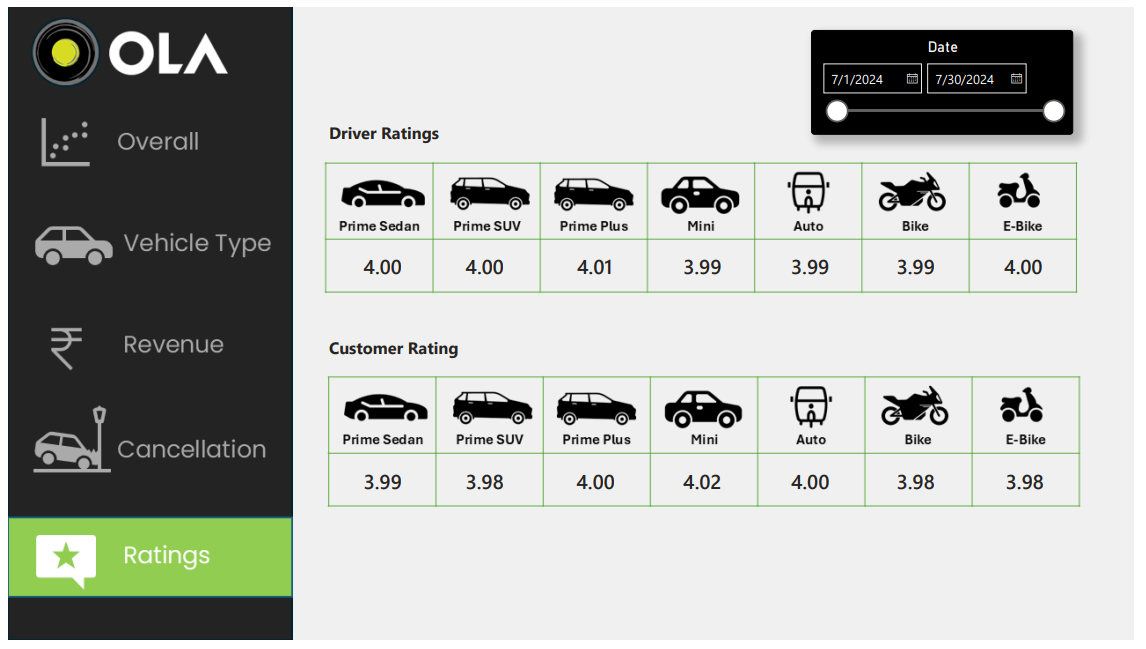

The page's visual inventory and layout, read from the dashboard file:
{"tool":"powerbi","page":{"name":"Rating","canvas":[1280,720],"ordinal":4},"visuals":[{"type":"actionButton","box":[0,220.8,324.5,92.9],"z":0},{"type":"actionButton","box":[0,341.4,324.5,92.9],"z":1000},{"type":"actionButton","box":[0,445.2,324.5,92.9],"z":2000},{"type":"actionButton","box":[0,107.4,324.5,92.9],"z":3000},{"type":"cardVisual","fields":{"Data":["Avg(July.Driver_Ratings)"]},"box":[373.8,271.2,103.8,42.5],"z":4000},{"type":"cardVisual","fields":{"Data":["Avg(July.Driver_Ratings)"]},"box":[490,271.2,103.8,42.5],"z":5000},{"type":"cardVisual","fields":{"Data":["Avg(July.Driver_Ratings)"]},"box":[615,271.2,103.8,42.5],"z":6000},{"type":"cardVisual","fields":{"Data":["Avg(July.Driver_Ratings)"]},"box":[737.5,271.2,103.8,42.5],"z":7000},{"type":"cardVisual","fields":{"Data":["Avg(July.Driver_Ratings)"]},"box":[860,271.2,103.8,42.5],"z":8000},{"type":"cardVisual","fields":{"Data":["Avg(July.Driver_Ratings)"]},"box":[980,271.2,103.8,42.5],"z":9000},{"type":"cardVisual","fields":{"Data":["Avg(July.Driver_Ratings)"]},"box":[1102.5,271.2,103.8,42.5],"z":10000},{"type":"cardVisual","fields":{"Data":["Avg(July.Customer_Rating)"]},"box":[373.8,516.2,103.8,42.5],"z":11000},{"type":"textbox","box":[360,125,150,38.8],"z":12000},{"type":"textbox","box":[360,368.8,168.8,38.8],"z":13000},{"type":"cardVisual","fields":{"Data":["Avg(July.Customer_Rating)"]},"box":[490,516.2,103.8,42.5],"z":14000},{"type":"cardVisual","fields":{"Data":["Avg(July.Customer_Rating)"]},"box":[616.2,516.2,103.8,42.5],"z":15000},{"type":"cardVisual","fields":{"Data":["Avg(July.Customer_Rating)"]},"box":[737.5,516.2,103.8,42.5],"z":16000},{"type":"cardVisual","fields":{"Data":["Avg(July.Customer_Rating)"]},"box":[860,516.2,103.8,42.5],"z":17000},{"type":"cardVisual","fields":{"Data":["Avg(July.Customer_Rating)"]},"box":[980,516.2,103.8,42.5],"z":18000},{"type":"cardVisual","fields":{"Data":["Avg(July.Customer_Rating)"]},"box":[1103.8,516.2,103.8,42.5],"z":19000},{"type":"slicer","title":"Date","fields":{"Values":["July.Date"]},"box":[912.5,26.2,298.8,118.8],"z":20000}]}

Visuals, with their boxes on the page's 1280x720 design canvas (x1, y1, x2, y2). These are canvas units, not pixel positions in the 1146x649 screenshot, which may show the page scaled, cropped or inside an application window:
actionButton: <box>0,221,324,314</box>
actionButton: <box>0,341,324,434</box>
actionButton: <box>0,445,324,538</box>
actionButton: <box>0,107,324,200</box>
cardVisual - Avg(July.Driver_Ratings): <box>374,271,478,314</box>
cardVisual - Avg(July.Driver_Ratings): <box>490,271,594,314</box>
cardVisual - Avg(July.Driver_Ratings): <box>615,271,719,314</box>
cardVisual - Avg(July.Driver_Ratings): <box>738,271,841,314</box>
cardVisual - Avg(July.Driver_Ratings): <box>860,271,964,314</box>
cardVisual - Avg(July.Driver_Ratings): <box>980,271,1084,314</box>
cardVisual - Avg(July.Driver_Ratings): <box>1102,271,1206,314</box>
cardVisual - Avg(July.Customer_Rating): <box>374,516,478,559</box>
textbox: <box>360,125,510,164</box>
textbox: <box>360,369,529,408</box>
cardVisual - Avg(July.Customer_Rating): <box>490,516,594,559</box>
cardVisual - Avg(July.Customer_Rating): <box>616,516,720,559</box>
cardVisual - Avg(July.Customer_Rating): <box>738,516,841,559</box>
cardVisual - Avg(July.Customer_Rating): <box>860,516,964,559</box>
cardVisual - Avg(July.Customer_Rating): <box>980,516,1084,559</box>
cardVisual - Avg(July.Customer_Rating): <box>1104,516,1208,559</box>
"Date" slicer: <box>912,26,1211,145</box>
